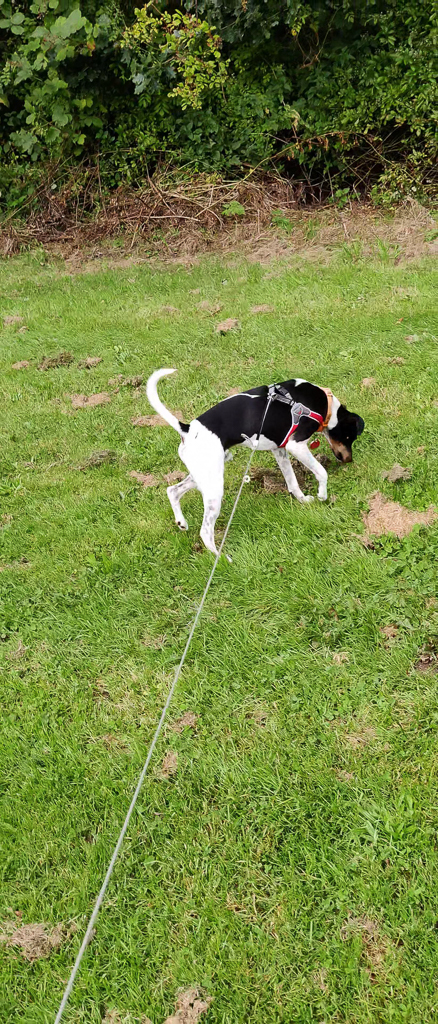Dog: (137, 346, 376, 565)
